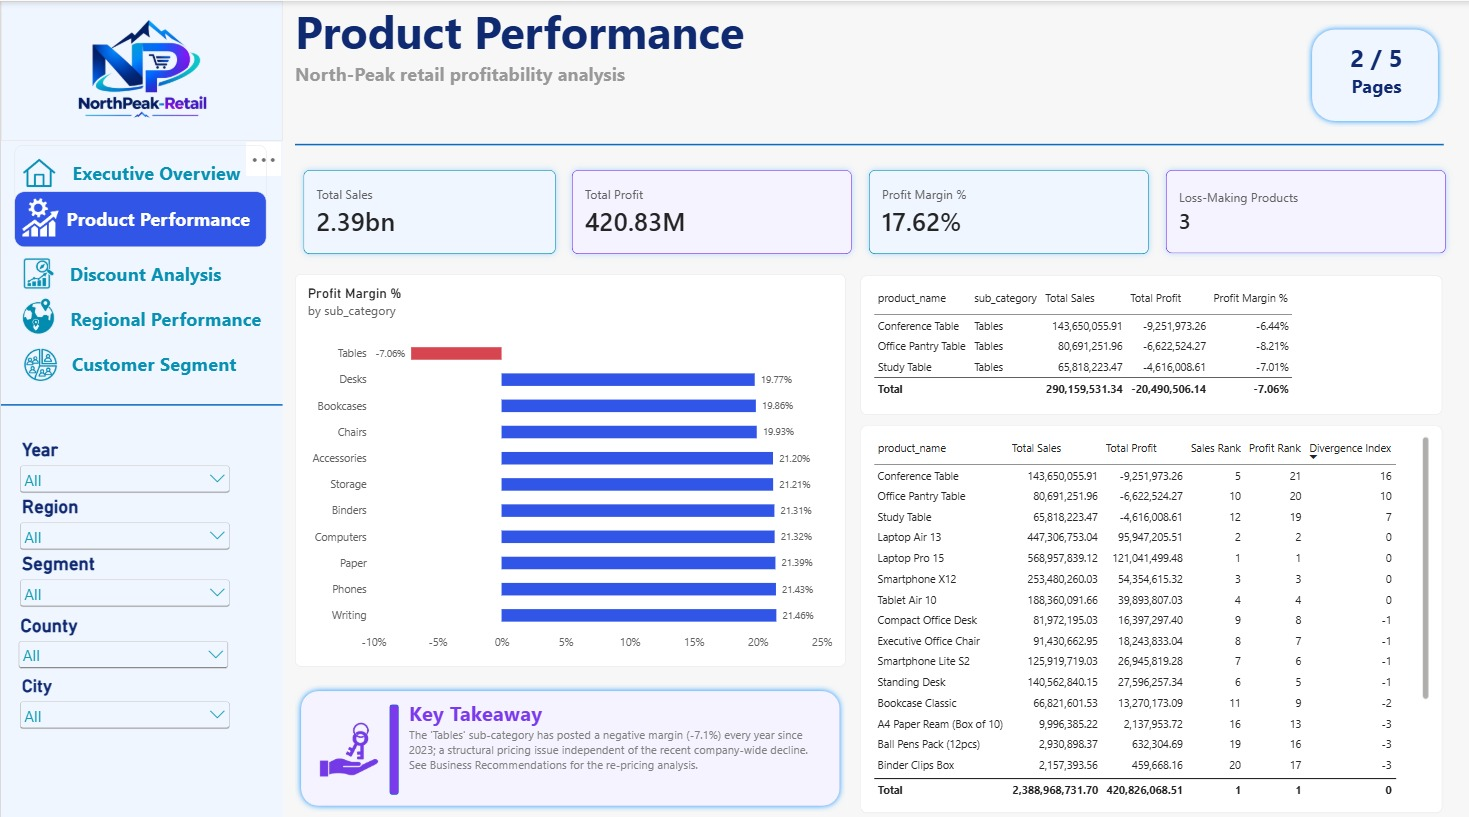

This screenshot's page, from the dashboard's own definition file:
{"tool":"powerbi","page":{"name":"Product Perfomance","canvas":[1920,1080],"ordinal":1},"visuals":[{"type":"cardVisual","fields":{"Data":["fact_sales.Total Sales"]},"box":[384,210,352,132],"z":0},{"type":"cardVisual","fields":{"Data":["fact_sales.Total Profit"]},"box":[736,210,388,132],"z":1000},{"type":"cardVisual","fields":{"Data":["fact_sales.Profit Margin %"]},"box":[1124,210,388,132],"z":2000},{"type":"shape","box":[0,0,368,1080],"z":3000},{"type":"image","box":[0,0,368,182],"z":4000},{"type":"slicer","fields":{"Values":["dim_date.year"]},"box":[19.6,572.7,284,76],"z":5000},{"type":"slicer","fields":{"Values":["dim_region.region"]},"box":[19.6,647.2,284,74],"z":6000},{"type":"slicer","fields":{"Values":["dim_customer.segment"]},"box":[19.6,721.8,284,100],"z":7000},{"type":"slicer","fields":{"Values":["dim_region.county"]},"box":[17.7,802.2,284,92],"z":8000},{"type":"slicer","fields":{"Values":["dim_region.city"]},"box":[19.6,882.6,284,74],"z":9000},{"type":"shape","box":[384,164,1502,46],"z":10000},{"type":"shape","box":[383.9,894.9,720,165.8],"z":11000},{"type":"textbox","box":[18,188,330,74],"z":12000},{"type":"textbox","box":[17.7,249.1,329.5,72.6],"z":13000},{"type":"textbox","box":[18,322,330,76],"z":14000},{"type":"textbox","box":[17.7,380.5,329.5,68.6],"z":15000},{"type":"textbox","box":[18,440,330,86],"z":16000},{"type":"shape","box":[0,502,368,52],"z":17000},{"type":"shape","box":[1706.3,29.4,180.4,135.3],"z":18000},{"type":"textbox","box":[1731.8,51,133.4,96.1],"z":19000},{"type":"shape","box":[508,920,12,118],"z":20000},{"type":"textbox","box":[533.5,894.4,539.4,143.2],"z":21000},{"type":"image","box":[7.8,331.5,82.4,49],"z":22000},{"type":"image","box":[17.7,386.4,62.8,53],"z":23000},{"type":"image","box":[23.5,449.1,56.9,53],"z":24000},{"type":"image","box":[384.4,894.4,141.2,168.7],"z":25000},{"type":"image","box":[19.6,198.1,60.8,54.9],"z":26000},{"type":"shape","box":[19.6,188.3,327.5,56.9],"z":27000},{"type":"image","box":[19.6,249.1,60.8,66.7],"z":28000},{"type":"clusteredBarChart","fields":{"Category":["dim_product.sub_category"],"Y":["fact_sales.Profit Margin %"]},"box":[383.9,356.6,720,513.3],"z":29000},{"type":"cardVisual","fields":{"Data":["fact_sales.Loss-Making Products"]},"box":[1512.7,209,388.4,131.7],"z":30000},{"type":"tableEx","fields":{"Values":["dim_product.product_name","dim_product.sub_category","fact_sales.Total Sales","fact_sales.Total Profit","fact_sales.Profit Margin %"]},"box":[1124.3,358.9,760.9,181.7],"z":31000},{"type":"tableEx","fields":{"Values":["dim_product.product_name","fact_sales.Total Sales","fact_sales.Total Profit","fact_sales.Sales Rank","fact_sales.Profit Rank","fact_sales.Divergence Index"]},"box":[1124.3,554.2,760.9,506.5],"z":32000},{"type":"textbox","box":[384.4,0,1292.5,164.7],"z":33000},{"type":"shape","box":[19.6,333.4,327.5,54.9],"z":34000}]}

Visuals, with their boxes on the page's 1920x1080 design canvas (x1, y1, x2, y2). These are canvas units, not pixel positions in the 1469x817 screenshot, which may show the page scaled, cropped or inside an application window:
cardVisual - fact_sales.Total Sales: [384, 210, 736, 342]
cardVisual - fact_sales.Total Profit: [736, 210, 1124, 342]
cardVisual - fact_sales.Profit Margin %: [1124, 210, 1512, 342]
shape: [0, 0, 368, 1080]
image: [0, 0, 368, 182]
slicer - dim_date.year: [20, 573, 304, 649]
slicer - dim_region.region: [20, 647, 304, 721]
slicer - dim_customer.segment: [20, 722, 304, 822]
slicer - dim_region.county: [18, 802, 302, 894]
slicer - dim_region.city: [20, 883, 304, 957]
shape: [384, 164, 1886, 210]
shape: [384, 895, 1104, 1061]
textbox: [18, 188, 348, 262]
textbox: [18, 249, 347, 322]
textbox: [18, 322, 348, 398]
textbox: [18, 380, 347, 449]
textbox: [18, 440, 348, 526]
shape: [0, 502, 368, 554]
shape: [1706, 29, 1887, 165]
textbox: [1732, 51, 1865, 147]
shape: [508, 920, 520, 1038]
textbox: [534, 894, 1073, 1038]
image: [8, 332, 90, 380]
image: [18, 386, 80, 439]
image: [24, 449, 80, 502]
image: [384, 894, 526, 1063]
image: [20, 198, 80, 253]
shape: [20, 188, 347, 245]
image: [20, 249, 80, 316]
clusteredBarChart - dim_product.sub_category x fact_sales.Profit Margin %: [384, 357, 1104, 870]
cardVisual - fact_sales.Loss-Making Products: [1513, 209, 1901, 341]
tableEx - dim_product.product_name x dim_product.sub_category: [1124, 359, 1885, 541]
tableEx - dim_product.product_name x fact_sales.Total Sales: [1124, 554, 1885, 1061]
textbox: [384, 0, 1677, 165]
shape: [20, 333, 347, 388]
